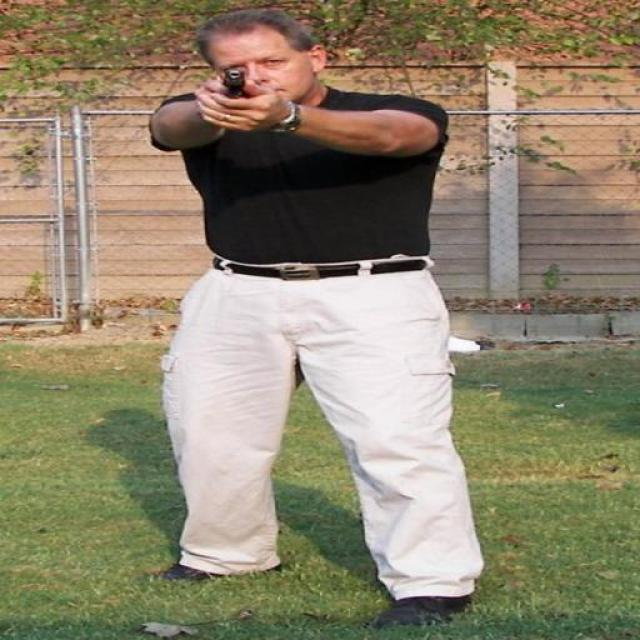pistol: (219, 69, 250, 99)
